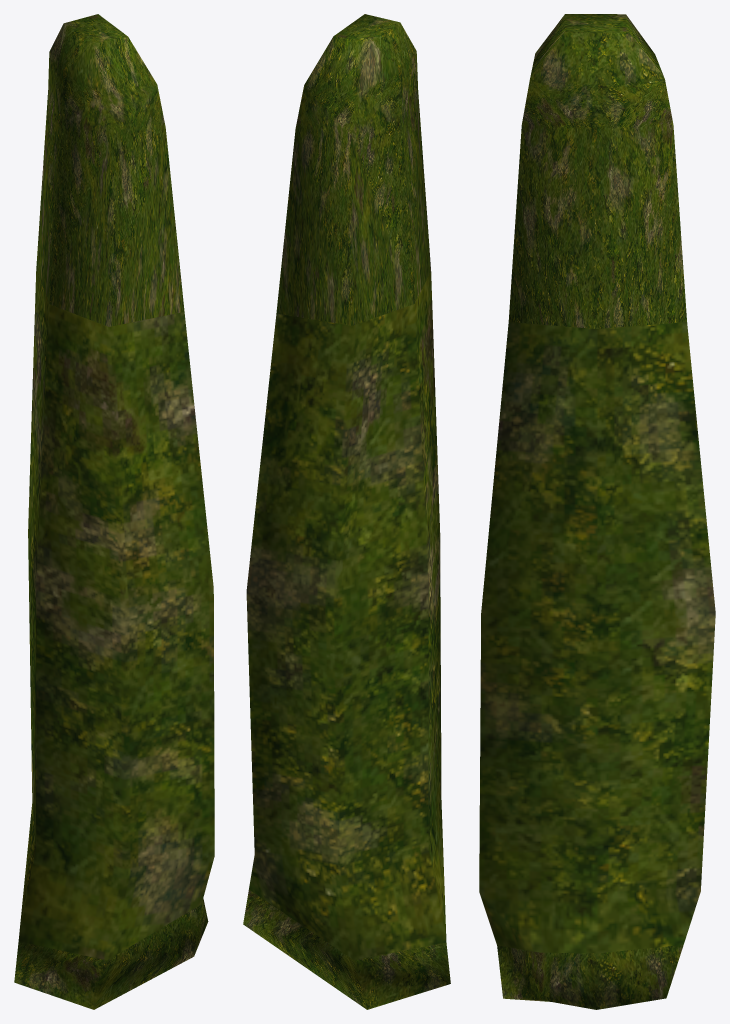
The model's file is OVERHILL_A_01_OH_B_ROCK_BRIDGE.fbx.
The picture shows the model from 3 angles, left to right: view 1: azimuth 30°, elevation 25°; view 2: azimuth 150°, elevation 25°; view 3: azimuth 270°, elevation 25°; orthographic projection. The views are drawn at different scales.
Parts seen in each view (by area): view 1: OVERHILL_A_01_OH_B_ROCK_BRIDGE; view 2: OVERHILL_A_01_OH_B_ROCK_BRIDGE; view 3: OVERHILL_A_01_OH_B_ROCK_BRIDGE.
Boxes of the visible parts, x1=… form: OVERHILL_A_01_OH_B_ROCK_BRIDGE: x1=14, y1=14, x2=214, y2=1009; OVERHILL_A_01_OH_B_ROCK_BRIDGE: x1=243, y1=14, x2=450, y2=1009; OVERHILL_A_01_OH_B_ROCK_BRIDGE: x1=479, y1=14, x2=715, y2=1009.
Bounding box in the file's own units: 12144 × 62156 × 13471.
1 material, 1 textured.
